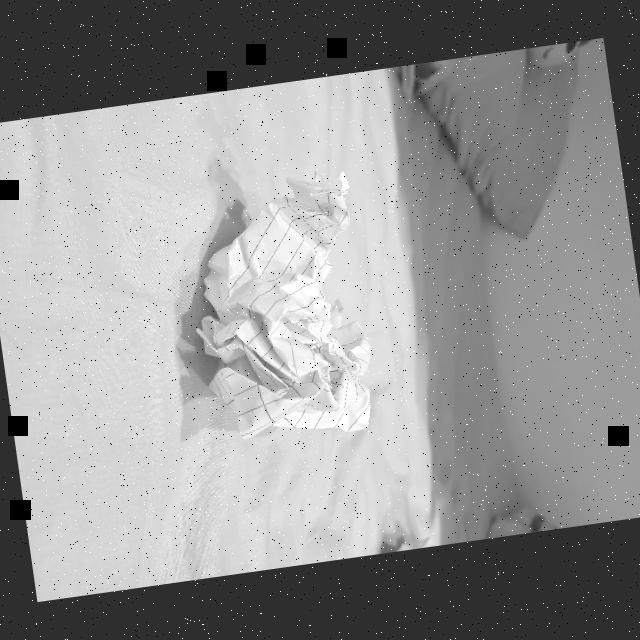scrap_paper: (175, 168, 392, 454)
